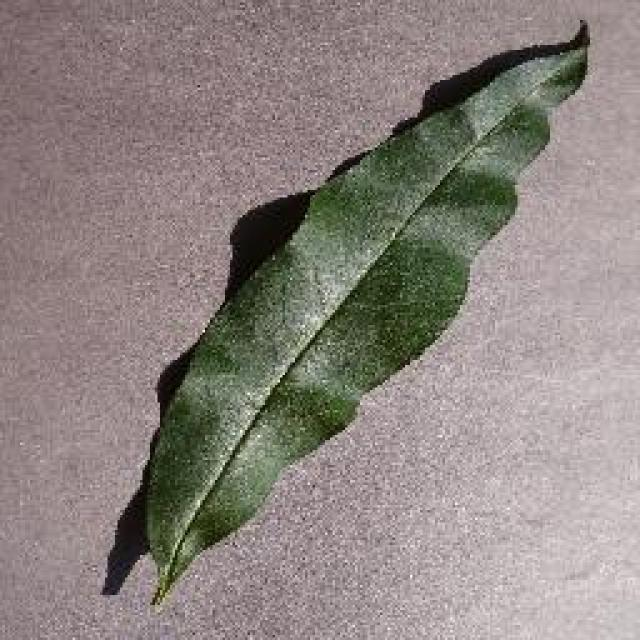Pea_healthy: (165, 73, 585, 515)
